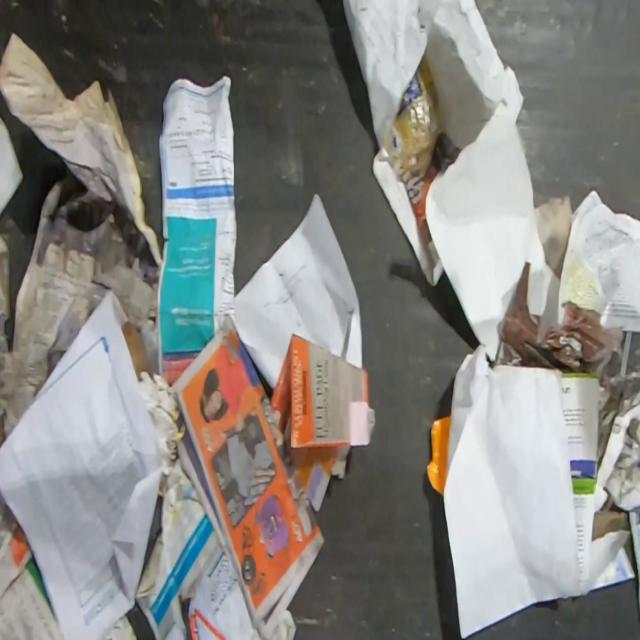cardboard: (122, 322, 154, 378)
